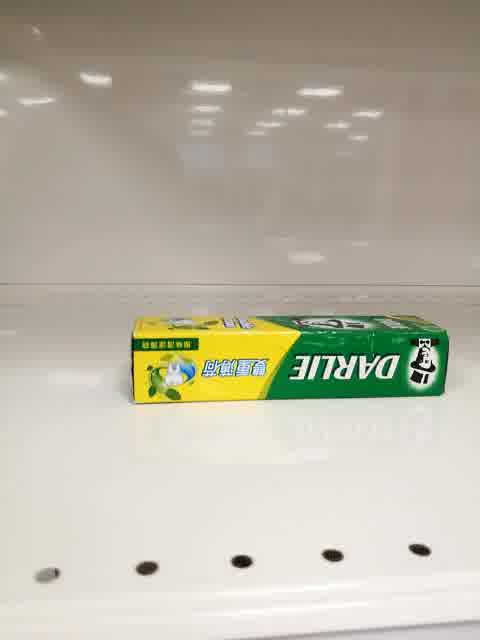toothpaste: (128, 313, 453, 405)
